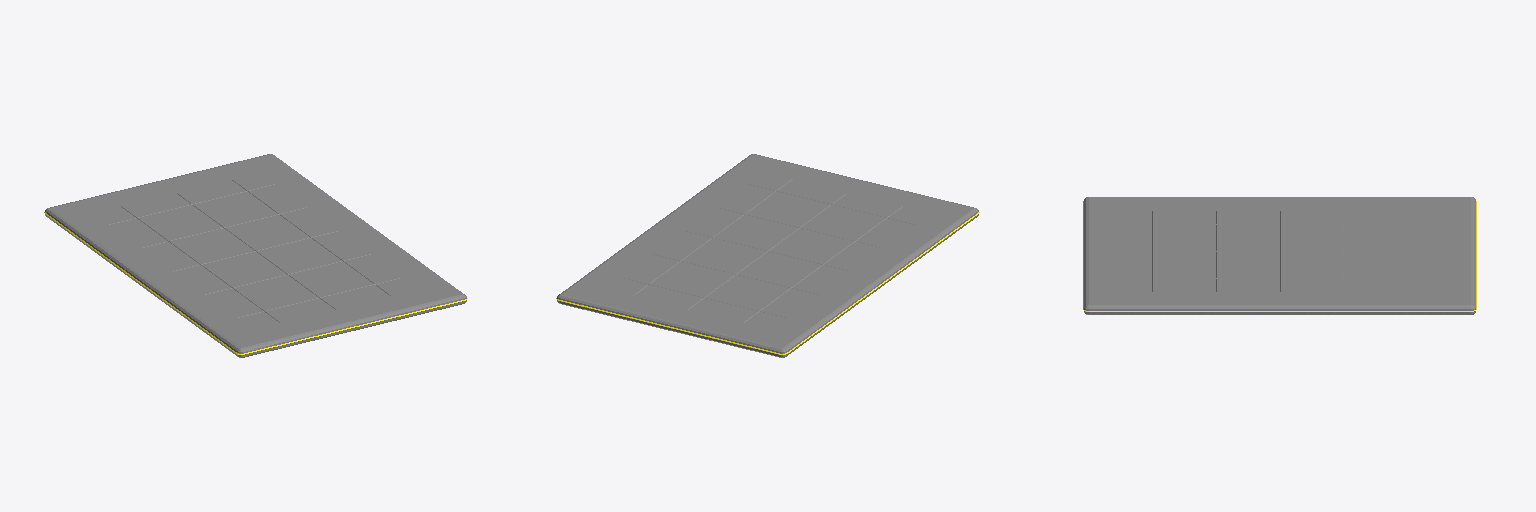
3 renders of one model, left to right at view 1: azimuth 30°, elevation 25°; view 2: azimuth 150°, elevation 25°; view 3: azimuth 270°, elevation 25°, orthographic.
Visible parts, largest first — view 1: yellow.002; view 2: yellow.002; view 3: yellow.002.
Boxes of the visible parts, box(x1,y1,x2,y2) form: yellow.002: box(44, 154, 467, 357); yellow.002: box(556, 154, 979, 357); yellow.002: box(1083, 197, 1476, 314).
Bounding box in the file's own units: 3.66 × 0.1457 × 5.41.
Materials: 3 (1 with a texture image).